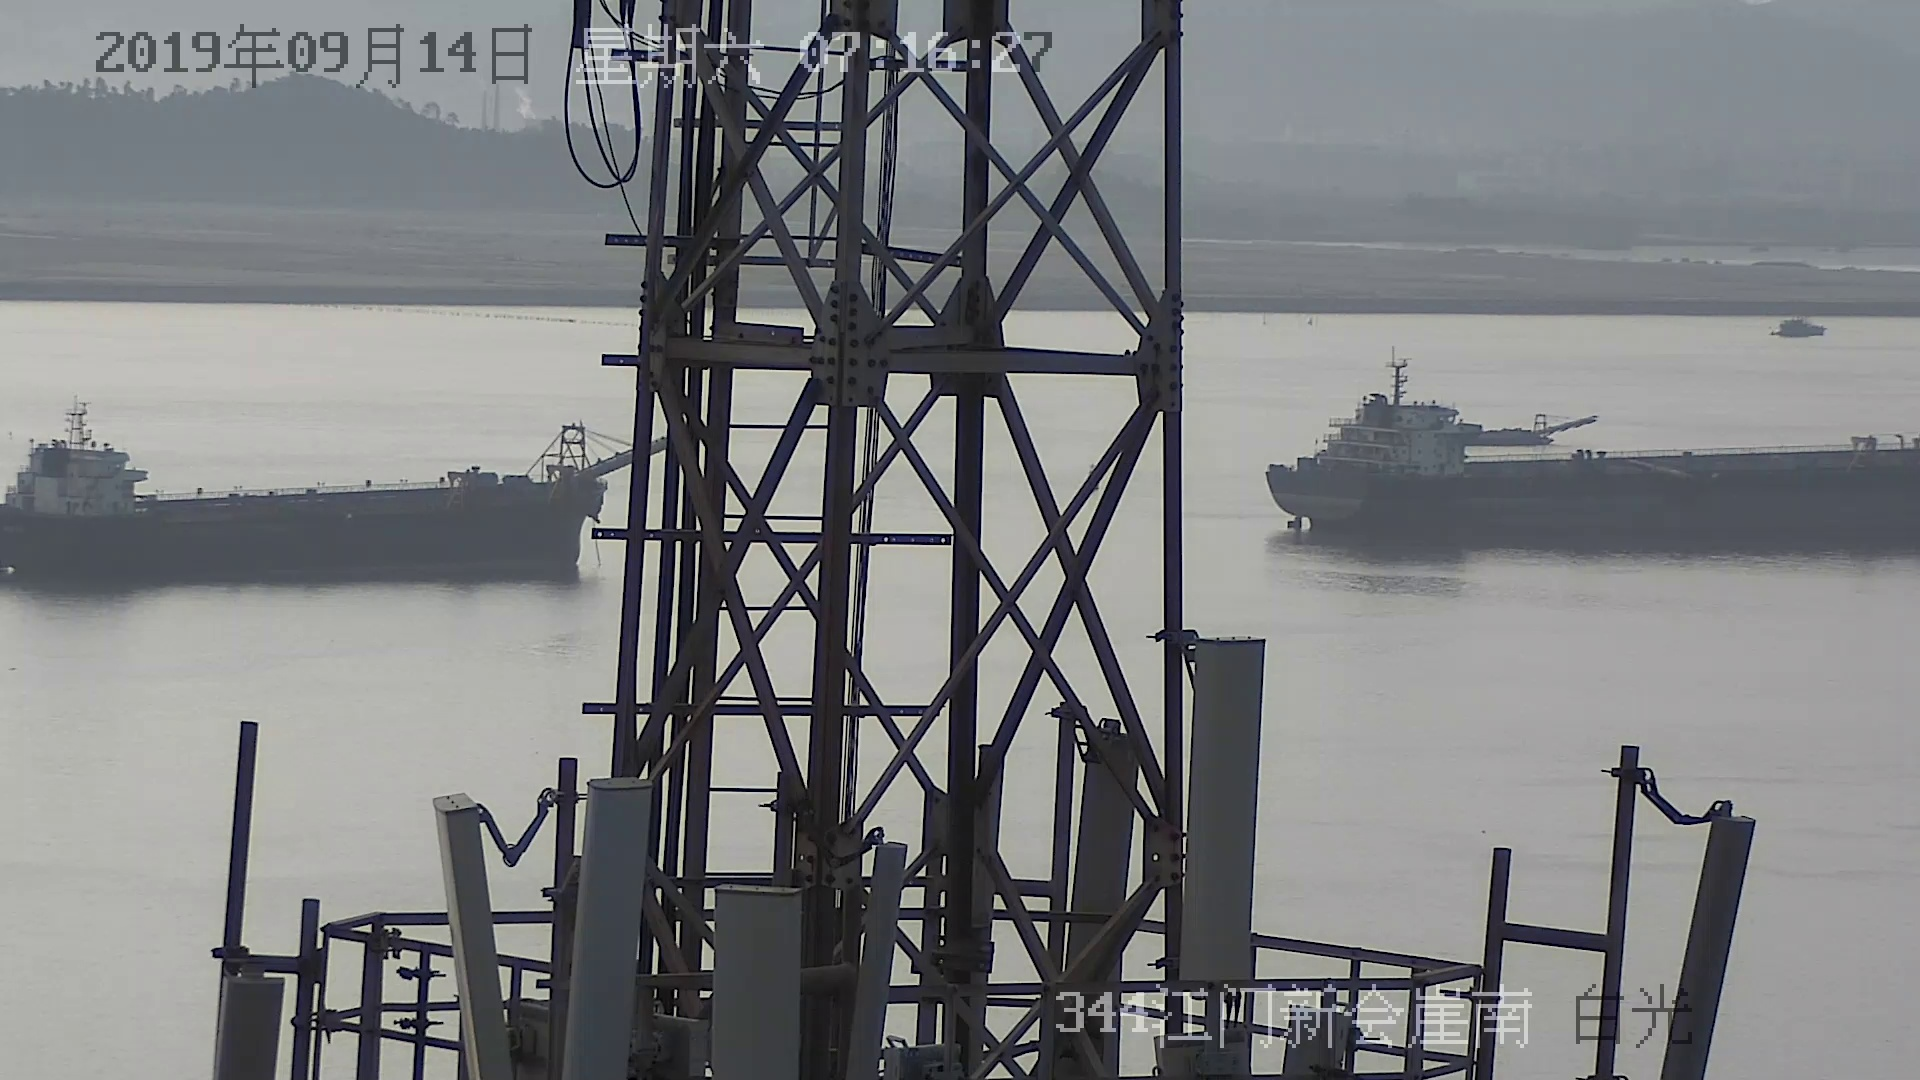ship: (1263, 361, 1920, 556), (1, 388, 613, 574), (1770, 313, 1826, 340)
